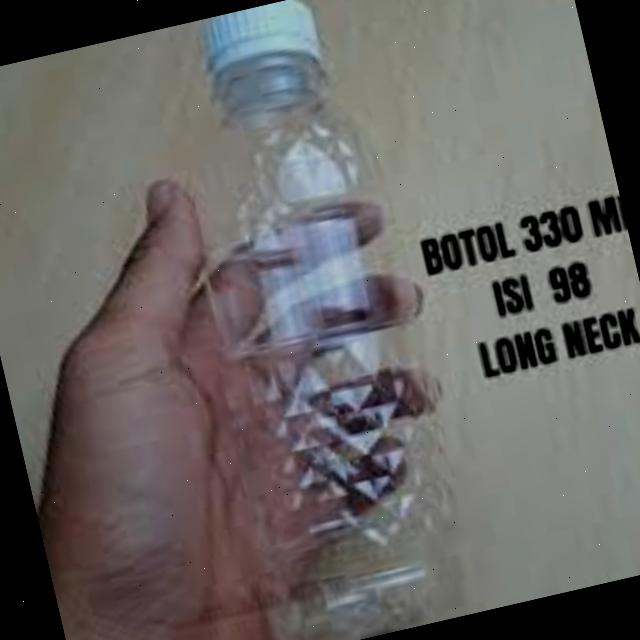trash: (133, 0, 501, 640)
